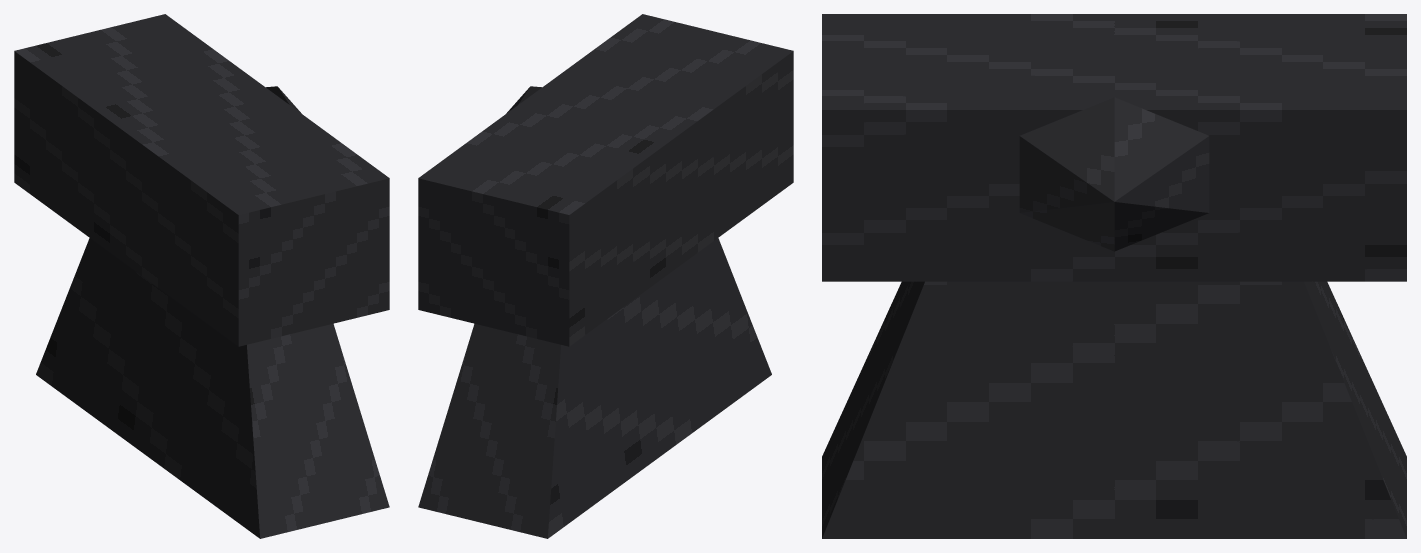
Rendered from yunque.glb.
3 views of the same model, side by side, from view 1: azimuth 30°, elevation 25°; view 2: azimuth 150°, elevation 25°; view 3: azimuth 270°, elevation 25° (orthographic). The views are drawn at different scales.
Visible parts, largest first — view 1: mesa, pie; view 2: mesa, pie; view 3: pie, mesa, cuerno.
Part boxes in pixels (x1,y1,x2,y2): mesa: (14, 14, 389, 346); pie: (36, 238, 389, 538); mesa: (418, 14, 793, 346); pie: (418, 238, 771, 538); pie: (822, 281, 1406, 538); mesa: (822, 14, 1406, 281); cuerno: (1019, 97, 1209, 251).
Bounding box in the file's own units: 0.3 × 0.5 × 0.6.
1 material, 1 textured.
